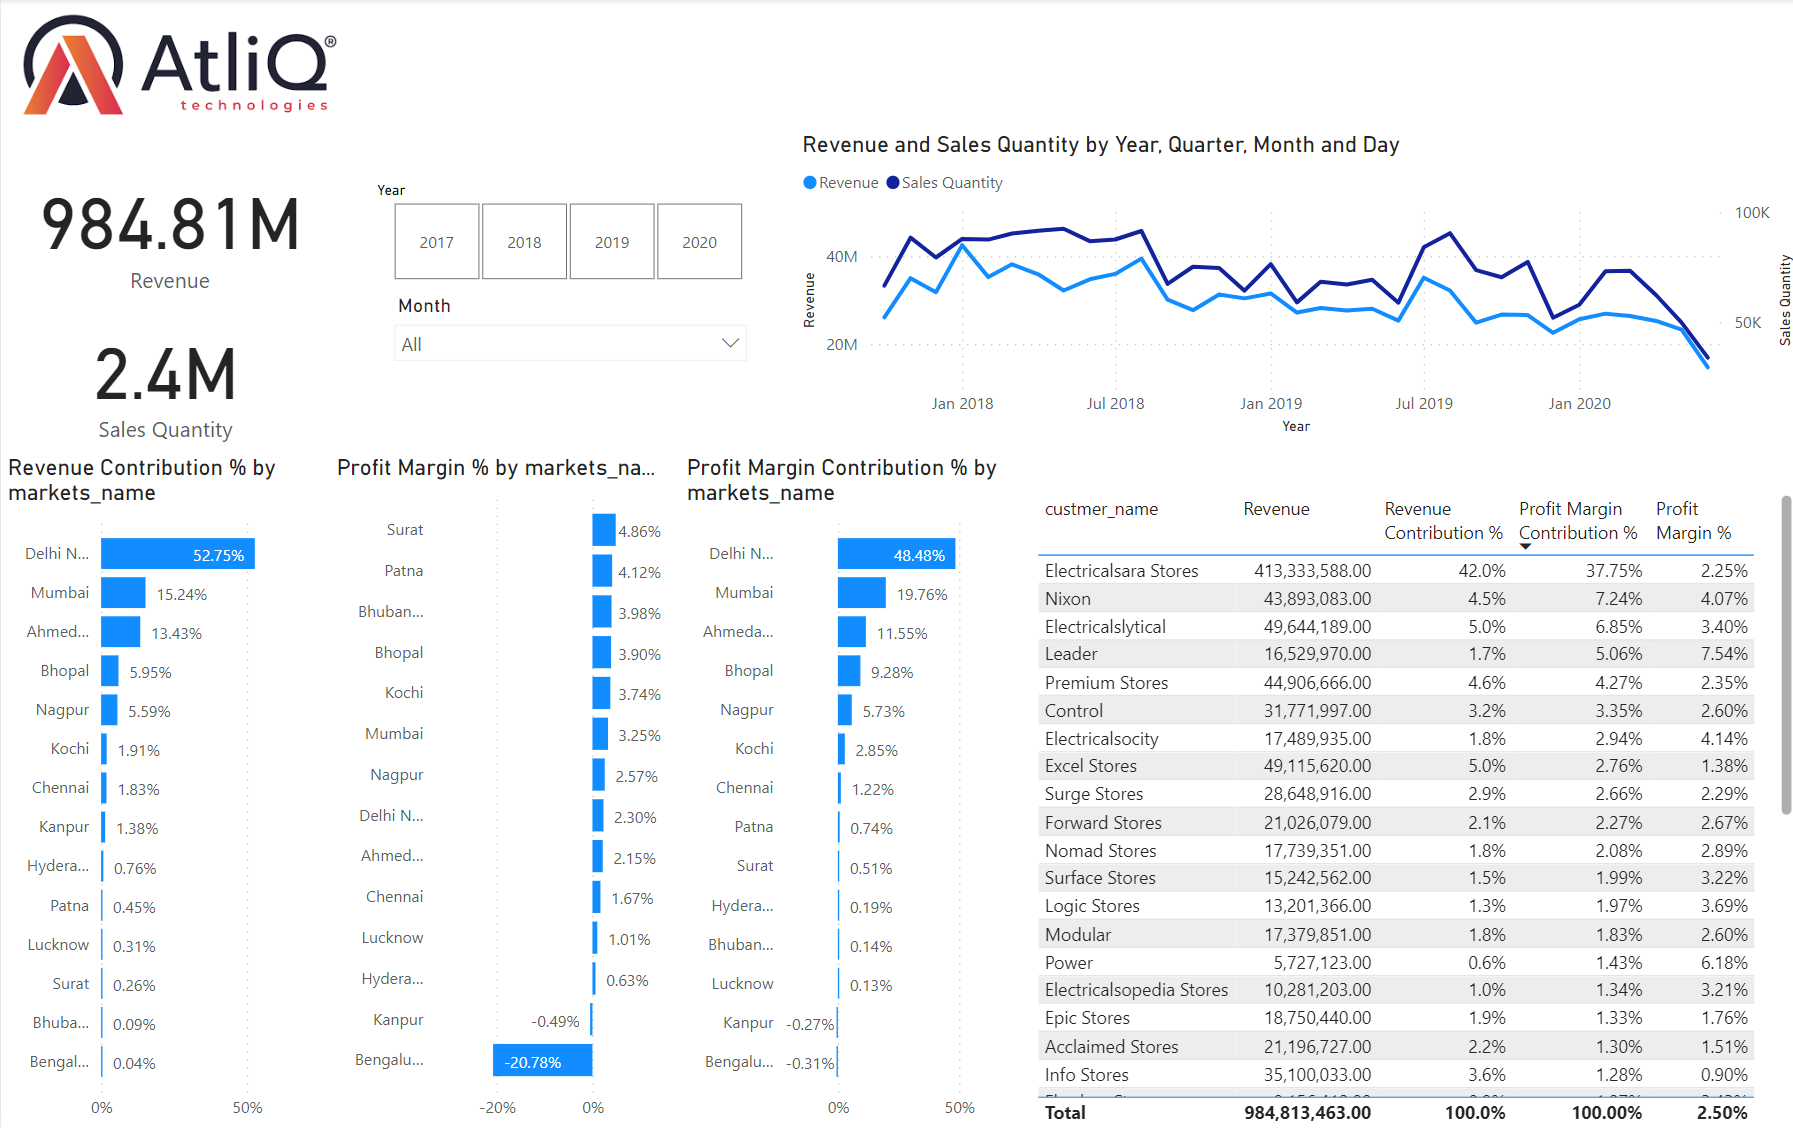

Layout of this report page (visuals, bound fields, positions):
{"tool":"powerbi","page":{"name":"Profit Analysis","canvas":[1350,850],"ordinal":0},"visuals":[{"type":"card","fields":{"Values":["Base Measure.Measure"]},"box":[0,118.2,253.4,110.3],"z":1000},{"type":"card","fields":{"Values":["Base Measure.Measure 2"]},"box":[0,231.1,246.9,107.7],"z":2000},{"type":"slicer","fields":{"Values":["sales date.year"]},"box":[268.6,132.5,310.9,85.3],"z":3000},{"type":"clusteredBarChart","fields":{"Category":["sales markets.markets_name"],"Y":["Base Measure.Profit Margin Percentage"]},"box":[246.6,342.4,262.4,507.7],"z":4000},{"type":"clusteredBarChart","fields":{"Category":["sales markets.markets_name"],"Y":["Base Measure.Profit Margin Contribution %"]},"box":[509,342.4,263.7,507.7],"z":5000},{"type":"clusteredBarChart","fields":{"Category":["sales markets.markets_name"],"Y":["Base Measure.Revenue Contribution %"]},"box":[0,342.4,246.6,507.7],"z":6000},{"type":"tableEx","fields":{"Values":["sales customers.custmer_name","Base Measure.Revenue","Base Measure.Revenue Contribution %","Base Measure.Profit Margin Contribution %","Base Measure.Profit Margin %"]},"box":[772.6,367.3,577.2,482.7],"z":7000},{"type":"slicer","fields":{"Values":["sales date.cy_date"]},"box":[284.3,216.4,284.7,68.2],"z":9000},{"type":"lineChart","fields":{"Category":["sales date.cy_date.Variation.Date Hierarchy.Year","sales date.cy_date.Variation.Date Hierarchy.Quarter","sales date.cy_date.Variation.Date Hierarchy.Month","sales date.cy_date.Variation.Date Hierarchy.Day"],"Y2":["Base Measure.Sales Quantity"],"Y":["Base Measure.Revenue"]},"box":[595.5,99.7,754.3,232.2],"z":10000},{"type":"image","box":[0,0,269.2,99.8],"z":10001}]}

Visuals, with their boxes in screenshot pixels (x1, y1, x2, y2), scaled from the page's 1350x850 canvas onto the 1793x1128 screenshot:
card - Base Measure.Measure: {"left": 0, "top": 157, "right": 337, "bottom": 303}
card - Base Measure.Measure 2: {"left": 0, "top": 307, "right": 328, "bottom": 450}
slicer - sales date.year: {"left": 357, "top": 176, "right": 770, "bottom": 289}
clusteredBarChart - sales markets.markets_name x Base Measure.Profit Margin Percentage: {"left": 328, "top": 454, "right": 676, "bottom": 1127}
clusteredBarChart - sales markets.markets_name x Base Measure.Profit Margin Contribution %: {"left": 676, "top": 454, "right": 1026, "bottom": 1127}
clusteredBarChart - sales markets.markets_name x Base Measure.Revenue Contribution %: {"left": 0, "top": 454, "right": 328, "bottom": 1127}
tableEx - sales customers.custmer_name x Base Measure.Revenue: {"left": 1026, "top": 487, "right": 1792, "bottom": 1127}
slicer - sales date.cy_date: {"left": 378, "top": 287, "right": 756, "bottom": 378}
lineChart - sales date.cy_date.Variation.Date Hierarchy.Year x sales date.cy_date.Variation.Date Hierarchy.Quarter: {"left": 791, "top": 132, "right": 1792, "bottom": 440}
image: {"left": 0, "top": 0, "right": 358, "bottom": 132}
